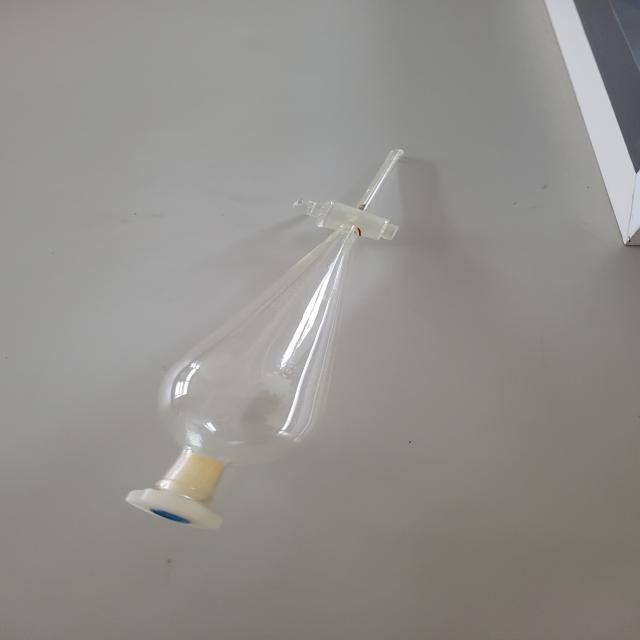Separating_Funnel: (98, 104, 456, 566)
